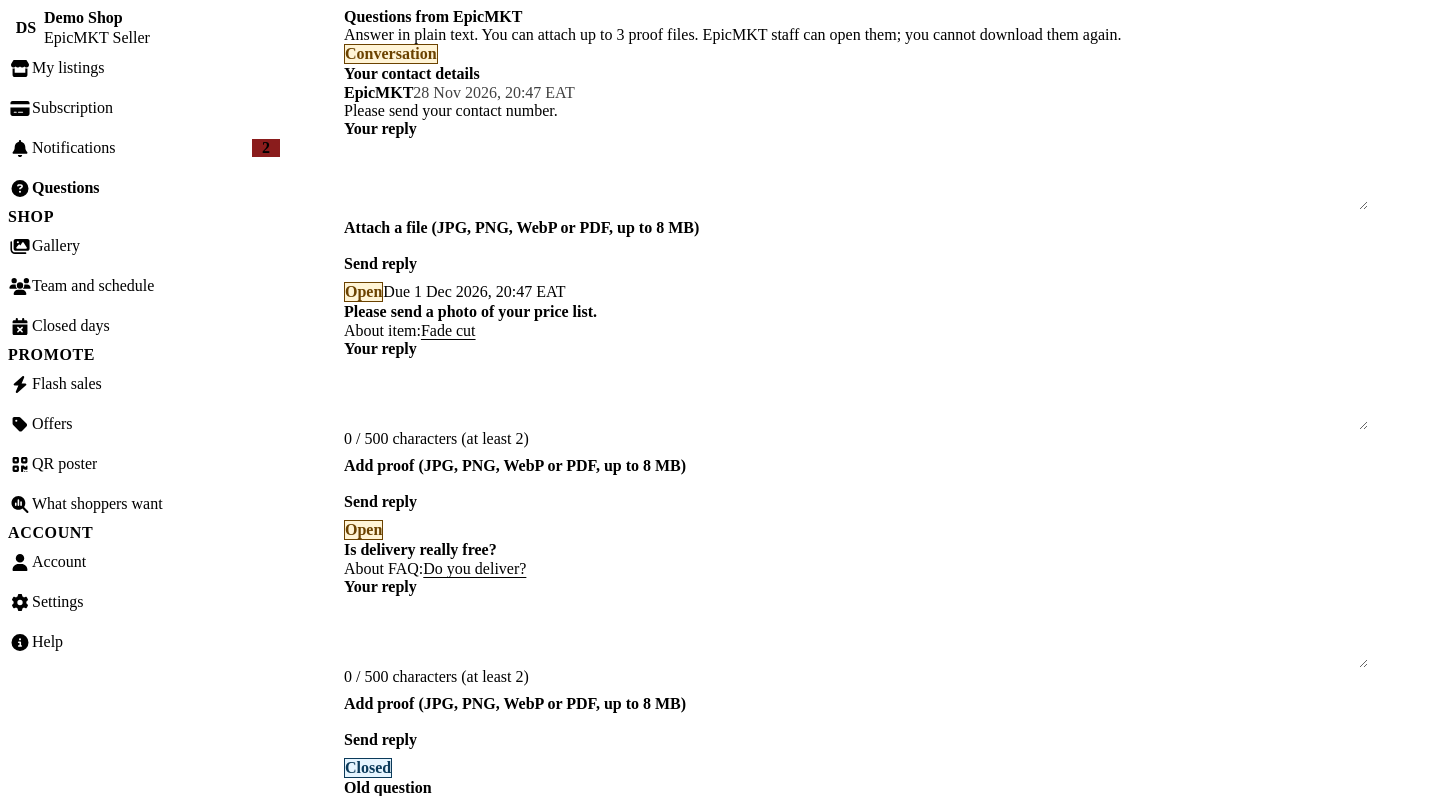
Test: conversations with EpicMKT staff › the seller answers in the conversation and sees one green tick until staff receive it, two when delivered, blue when read
# Opening it marks staff's message as read for the seller.
Type "0712 345 678" into the text box labelled "Your reply" below "Conversation" at (856, 174), box x1=344 y1=138 x2=1368 y2=210
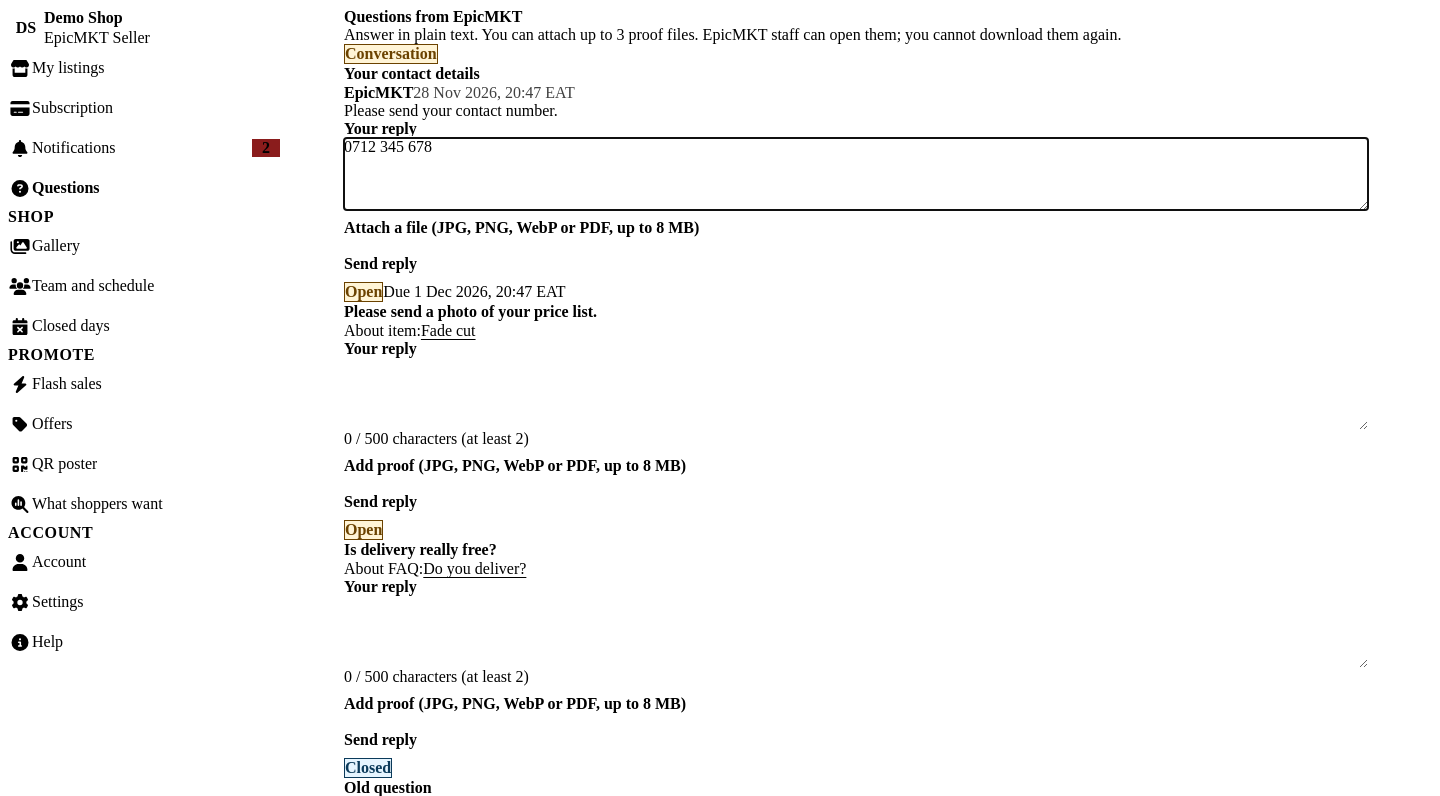
Click the button "Send reply" below "Conversation" at (381, 264), box x1=344 y1=246 x2=417 y2=282
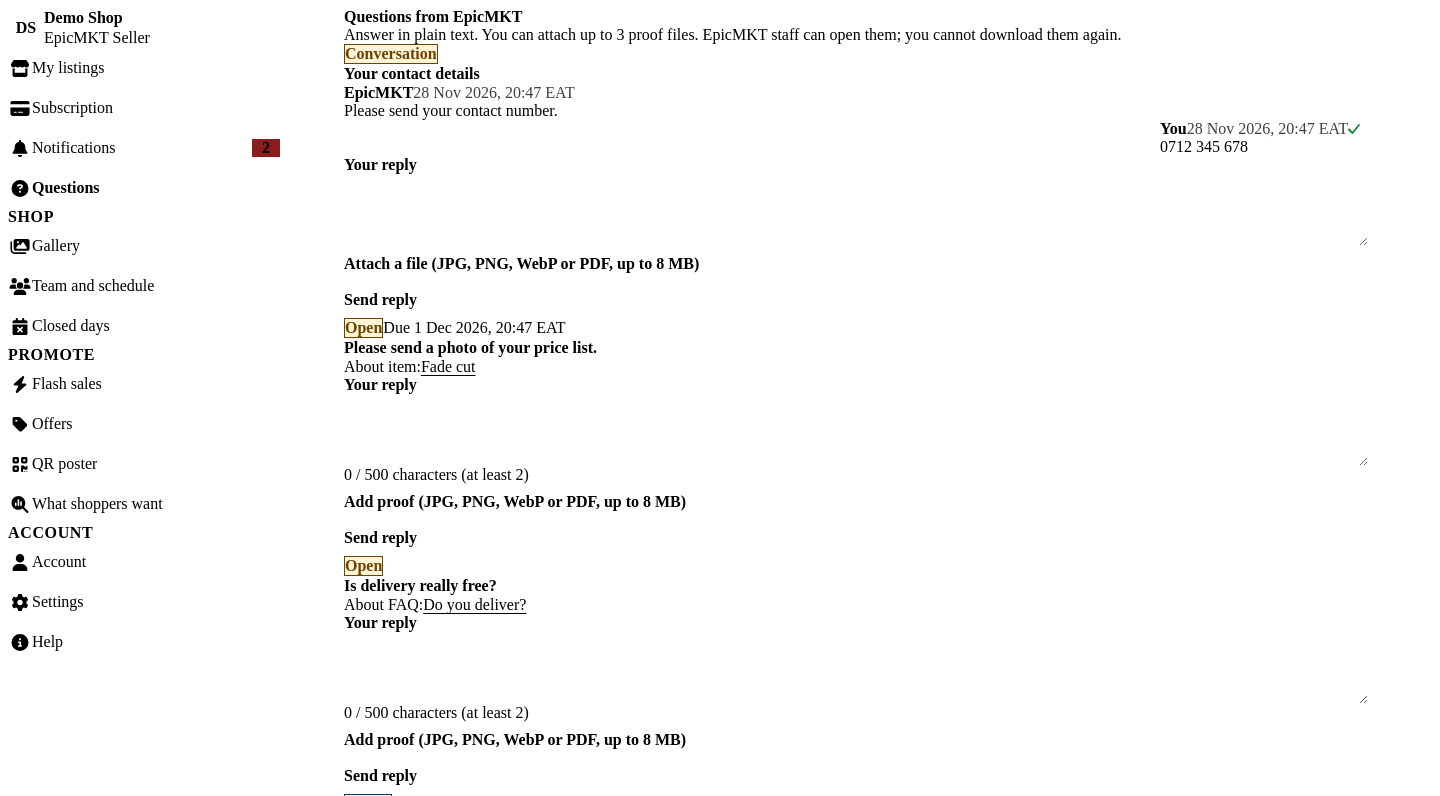
Expected: the number of list items with test id "thread-message" is 2, x1=344 y1=84 x2=575 y2=120; x1=1160 y1=120 x2=1368 y2=156
